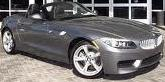front_view: (100, 31, 165, 74)
headlight: (100, 35, 140, 54)
